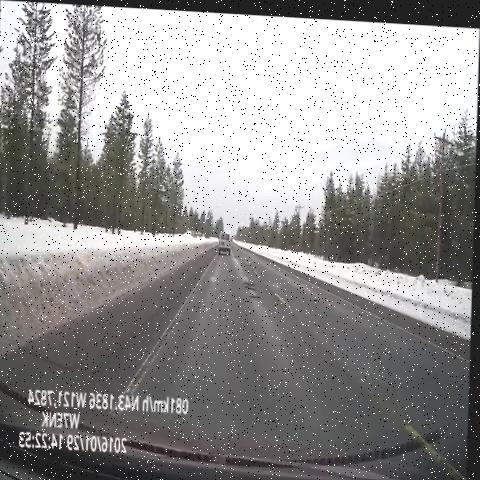pothole: (241, 272, 265, 307), (230, 241, 240, 264)
